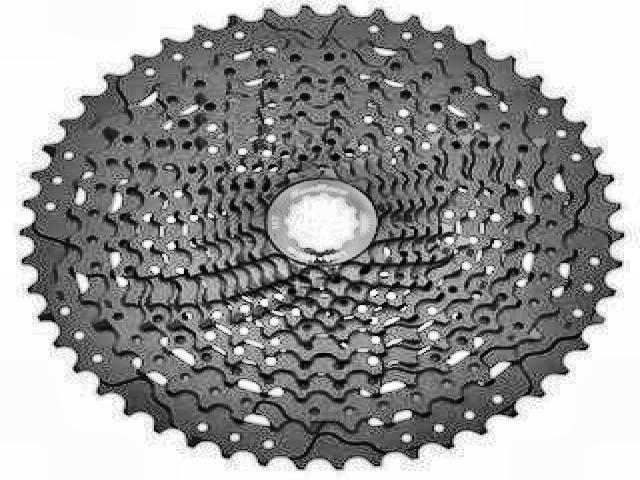cassette: (14, 3, 626, 474)
